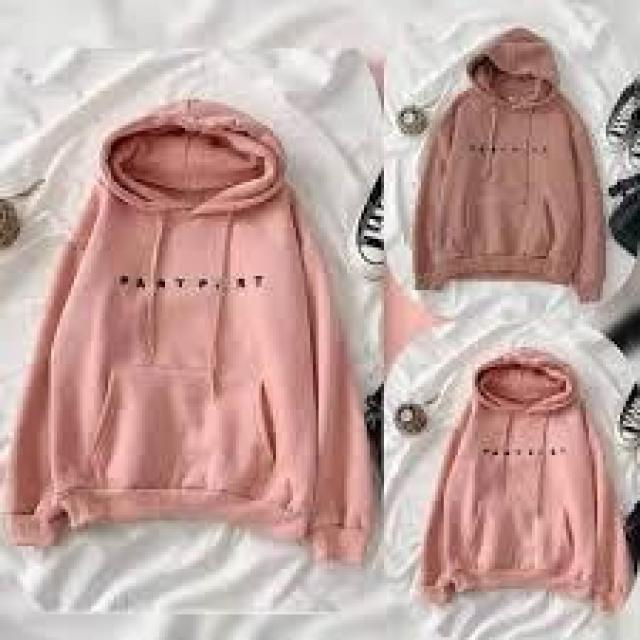sweater: (4, 97, 388, 566), (406, 347, 638, 614), (410, 32, 620, 304)
